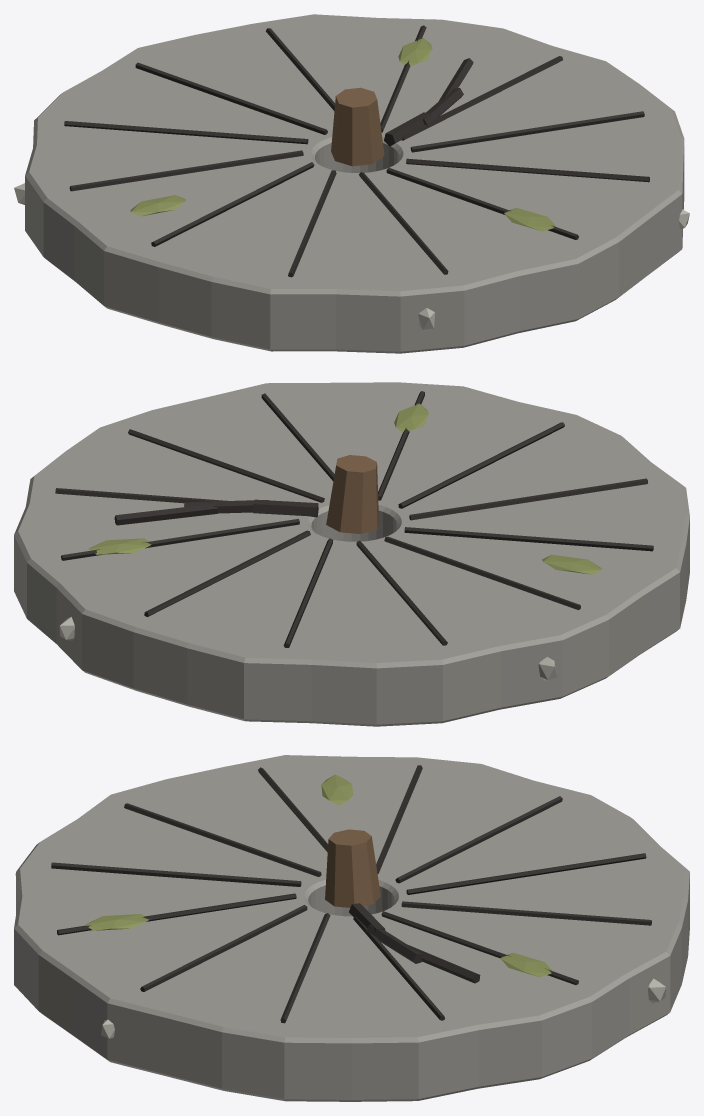
File: millstone.glb
The picture shows the model from 3 angles, top to bottom: view 1: azimuth 30°, elevation 25°; view 2: azimuth 150°, elevation 25°; view 3: azimuth 270°, elevation 25°; orthographic projection. The views are drawn at different scales.
Visible parts, largest first — view 1: millstone; view 2: millstone; view 3: millstone.
Part boxes in pixels (box(x1,y1,x2,y2)): millstone: box(14, 14, 689, 353); millstone: box(14, 382, 689, 726); millstone: box(14, 755, 689, 1101).
Size of the model in its own units: 7.49 by 1.5 by 7.47.
